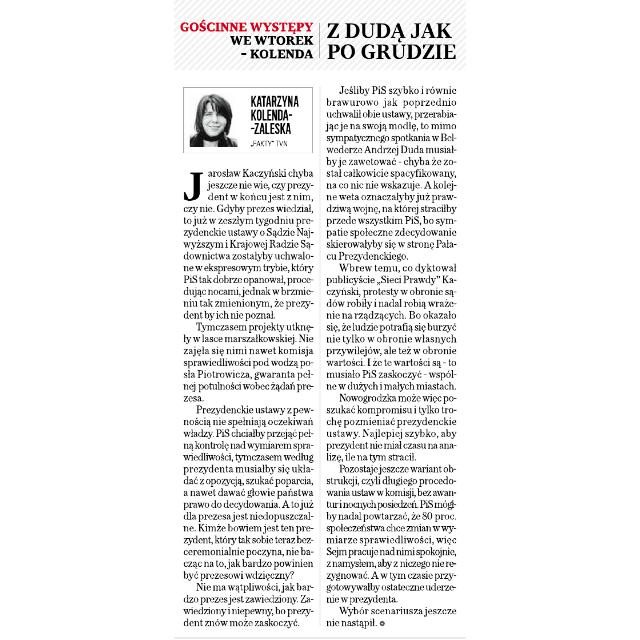author: (247, 92, 306, 138)
body: (324, 82, 462, 630), (180, 165, 318, 633)
title: (179, 15, 459, 66)
